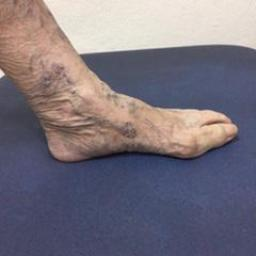Medial View -Left Foot-: (12, 78, 244, 180)
